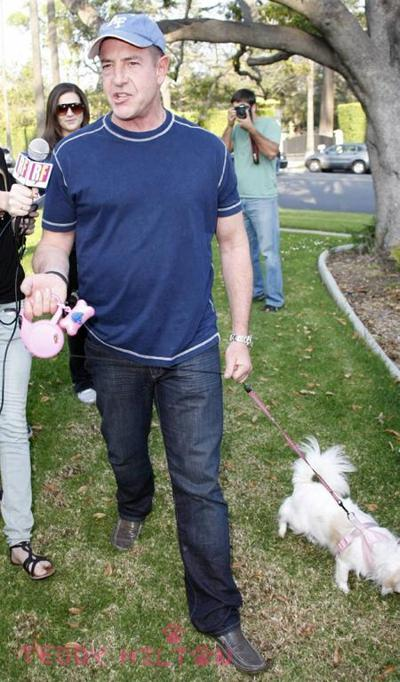person: (22, 15, 265, 676)
